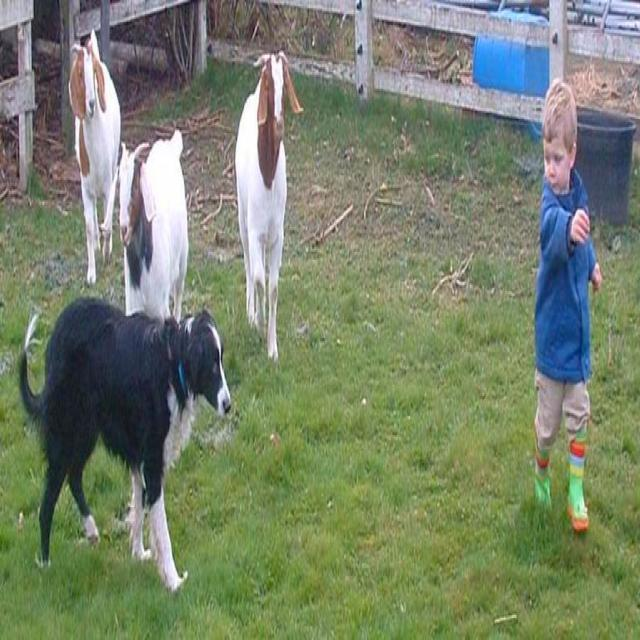Goat: (17, 294, 231, 592), (115, 125, 189, 526), (234, 49, 303, 362), (116, 125, 189, 324), (68, 27, 121, 285)
